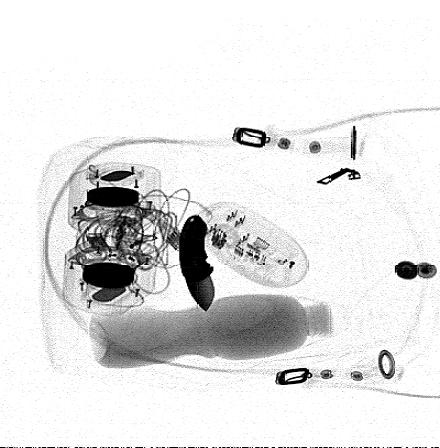Knife: (178, 214, 216, 313)
